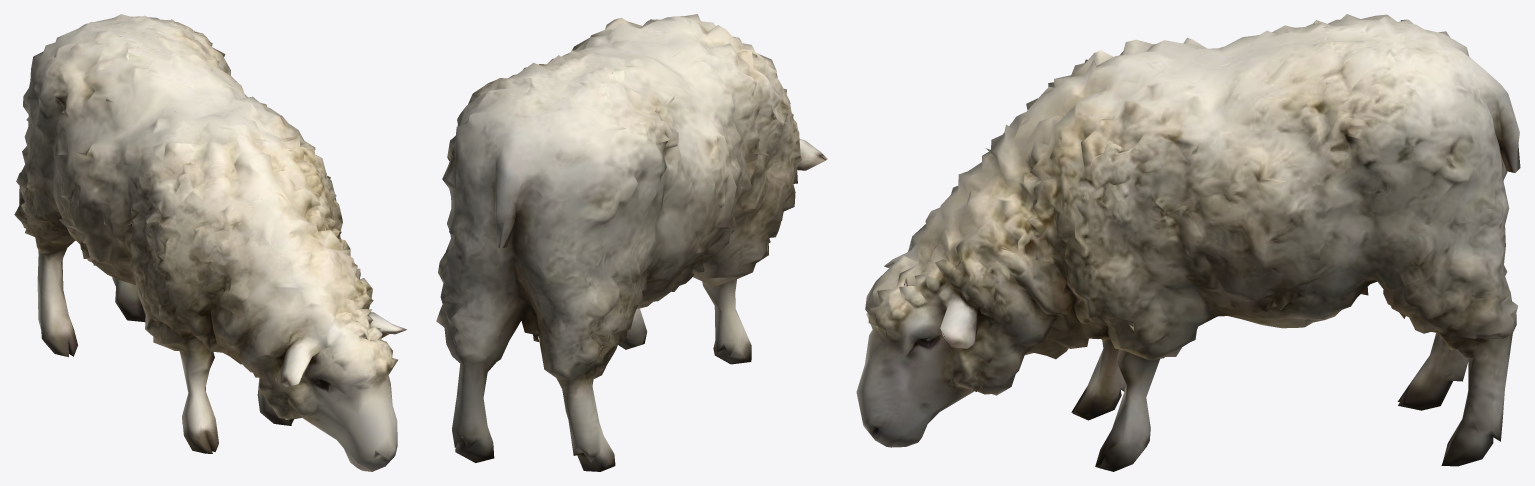
File: schaf.glb
3 renders of one model, left to right at view 1: azimuth 30°, elevation 25°; view 2: azimuth 150°, elevation 25°; view 3: azimuth 270°, elevation 25°, orthographic. The views are drawn at different scales.
Visible parts, largest first — view 1: tripo_node_c3158358-def6-4422-b206-bcc0ac96217d; view 2: tripo_node_c3158358-def6-4422-b206-bcc0ac96217d; view 3: tripo_node_c3158358-def6-4422-b206-bcc0ac96217d.
Boxes of the visible parts, x1,y1,x2,y2 form: tripo_node_c3158358-def6-4422-b206-bcc0ac96217d: [14, 14, 406, 471]; tripo_node_c3158358-def6-4422-b206-bcc0ac96217d: [436, 14, 827, 471]; tripo_node_c3158358-def6-4422-b206-bcc0ac96217d: [856, 14, 1520, 471].
Bounding box in the file's own units: 0.4534 × 0.6732 × 1.
Materials: 1 (1 with a texture image).
